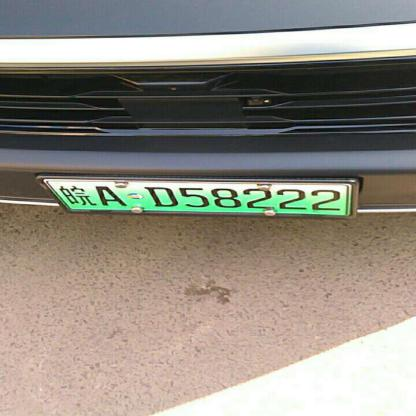lp: (46, 181, 71, 214)
